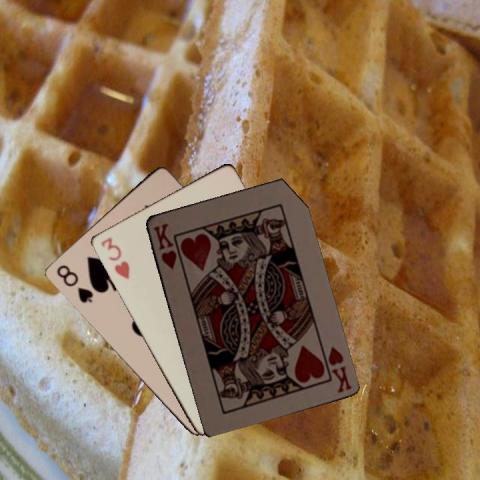3h: (97, 234, 131, 281)
8s: (53, 261, 95, 305)
Kh: (149, 220, 178, 271), (324, 343, 352, 394)
